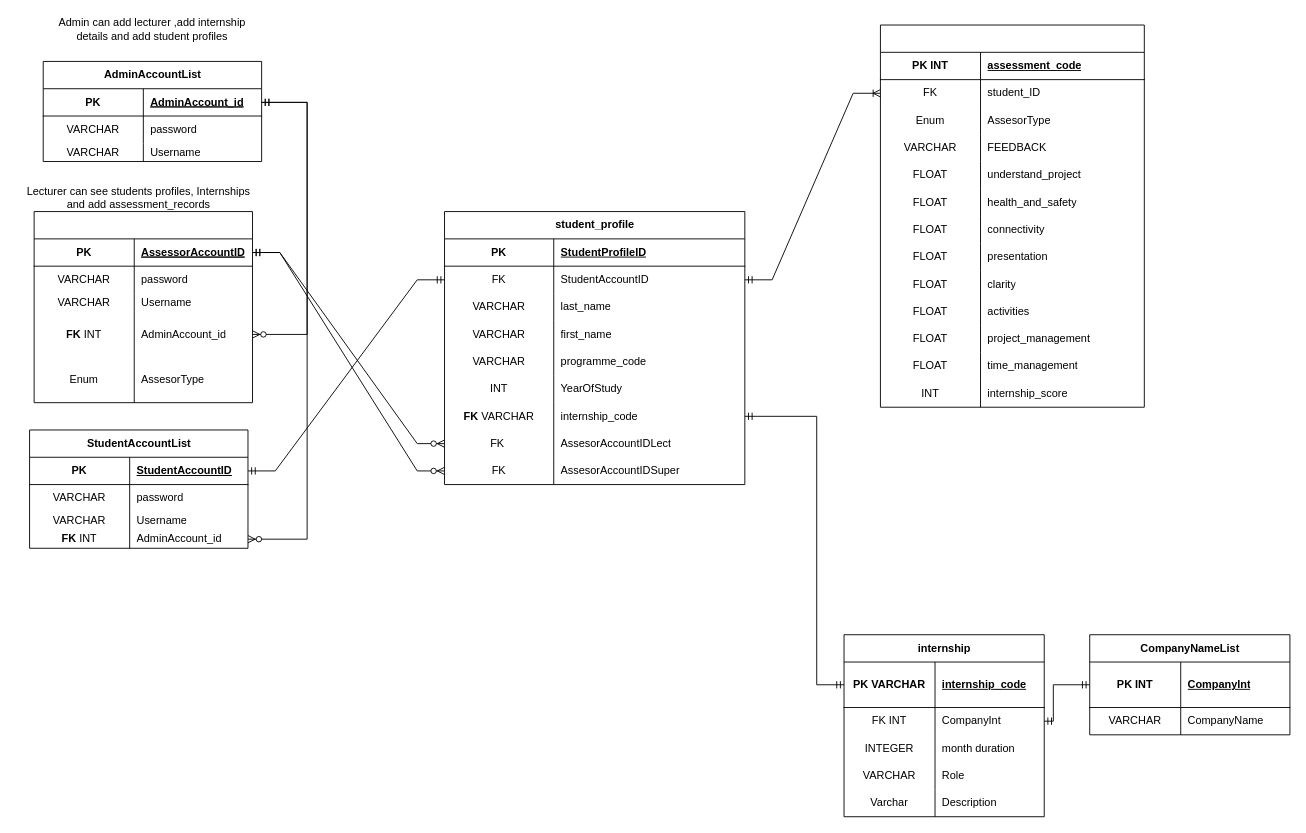
Image size: 1306x833. Some labels were removed from this diagram. The box of each missing label's shape, as (x1, y1, x2, y2) in pixels:
AssesorAccountList: (33, 211, 253, 403)
assessment_records: (880, 24, 1144, 407)
